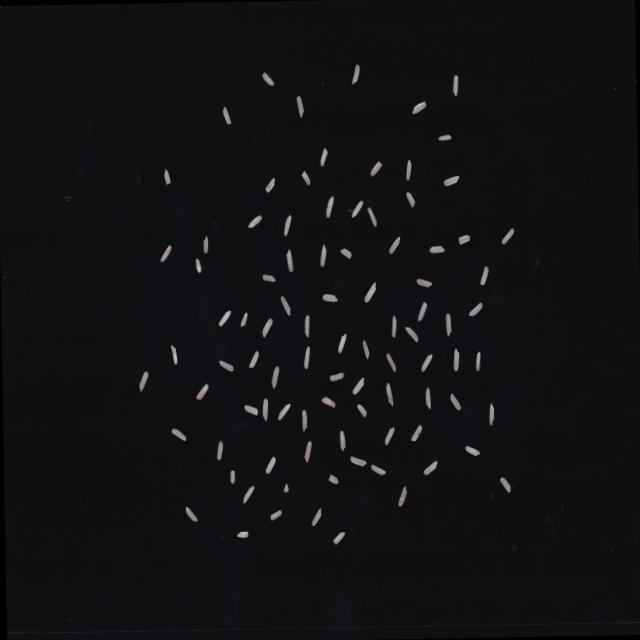Not: (362, 280, 375, 302), (499, 227, 514, 244), (403, 326, 418, 343), (260, 317, 272, 338), (276, 402, 290, 420), (269, 365, 279, 389), (309, 506, 321, 526), (368, 160, 382, 177), (419, 354, 432, 372), (350, 376, 363, 394), (194, 382, 207, 400), (448, 392, 460, 411), (246, 214, 262, 228), (184, 506, 198, 522), (421, 460, 437, 474), (336, 332, 346, 354), (279, 294, 289, 316), (350, 200, 362, 218), (158, 244, 170, 262), (409, 424, 421, 442), (264, 456, 276, 474), (241, 486, 253, 504), (348, 455, 366, 467), (410, 100, 425, 114), (467, 302, 482, 316), (416, 300, 426, 321), (385, 352, 395, 373), (137, 371, 147, 392), (170, 428, 185, 442), (384, 382, 392, 408), (217, 310, 230, 326), (217, 359, 233, 372), (387, 236, 399, 253), (366, 206, 376, 226), (478, 266, 488, 286), (383, 426, 393, 446), (396, 486, 406, 506), (324, 196, 333, 218), (442, 174, 458, 186), (284, 248, 292, 272), (318, 243, 326, 267), (369, 464, 385, 476), (349, 64, 358, 85), (498, 477, 509, 494), (295, 95, 303, 118), (282, 214, 290, 237), (331, 530, 344, 544), (260, 71, 272, 86), (464, 444, 479, 456), (247, 350, 257, 368), (169, 343, 177, 365), (302, 440, 310, 462), (221, 106, 230, 125), (302, 346, 309, 370), (320, 396, 334, 408), (243, 404, 257, 416), (404, 192, 414, 208), (318, 146, 326, 166), (300, 170, 310, 186), (264, 176, 274, 192), (415, 278, 431, 288), (214, 440, 222, 460), (268, 509, 280, 522), (321, 293, 336, 303), (328, 372, 343, 382), (361, 338, 368, 359), (339, 248, 351, 260), (487, 402, 493, 426), (452, 348, 458, 372), (444, 313, 450, 337), (390, 314, 396, 338), (424, 386, 430, 410), (302, 314, 308, 338), (261, 397, 267, 421), (300, 408, 306, 432), (356, 404, 366, 418), (162, 168, 170, 185), (452, 74, 458, 96), (404, 158, 410, 180), (456, 234, 468, 245), (338, 429, 344, 451), (428, 245, 444, 253), (239, 311, 247, 327), (260, 274, 274, 282), (474, 350, 479, 372), (327, 474, 338, 484), (201, 235, 207, 253), (437, 134, 451, 141), (235, 530, 247, 538), (194, 258, 200, 272), (228, 470, 234, 484), (282, 483, 288, 493)
